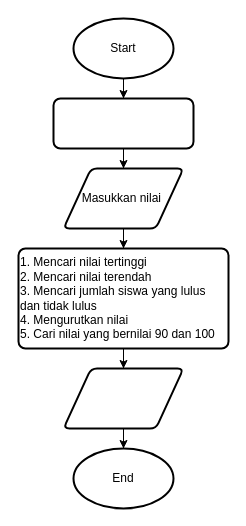
The diagram is 246 pixels wide and 526 high, and some of its shapes have lost their labels. Here are the shapes that lost their labels. From the top down, the centre of each, then its label:
At pixel 123 123: "Siapkan variabel penampung data lulus dan remidi".
At pixel 123 398: "Cetak Nilai".
